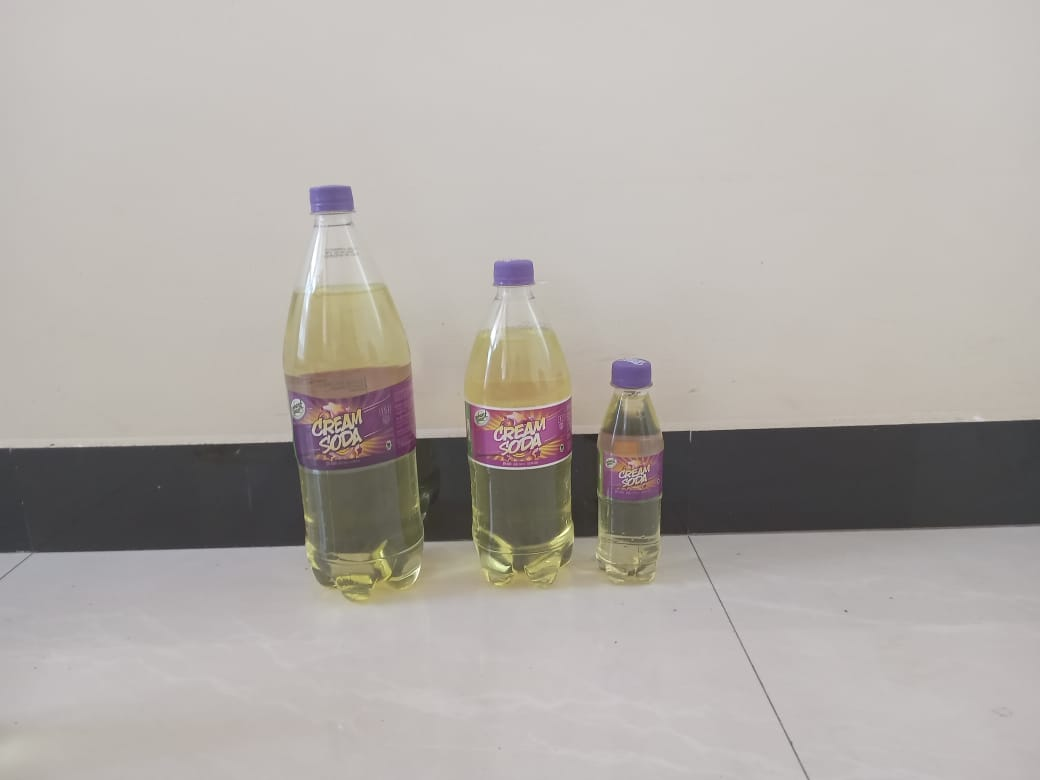L: (281, 183, 427, 600)
M: (459, 258, 581, 589)
Xs: (597, 360, 666, 582)
